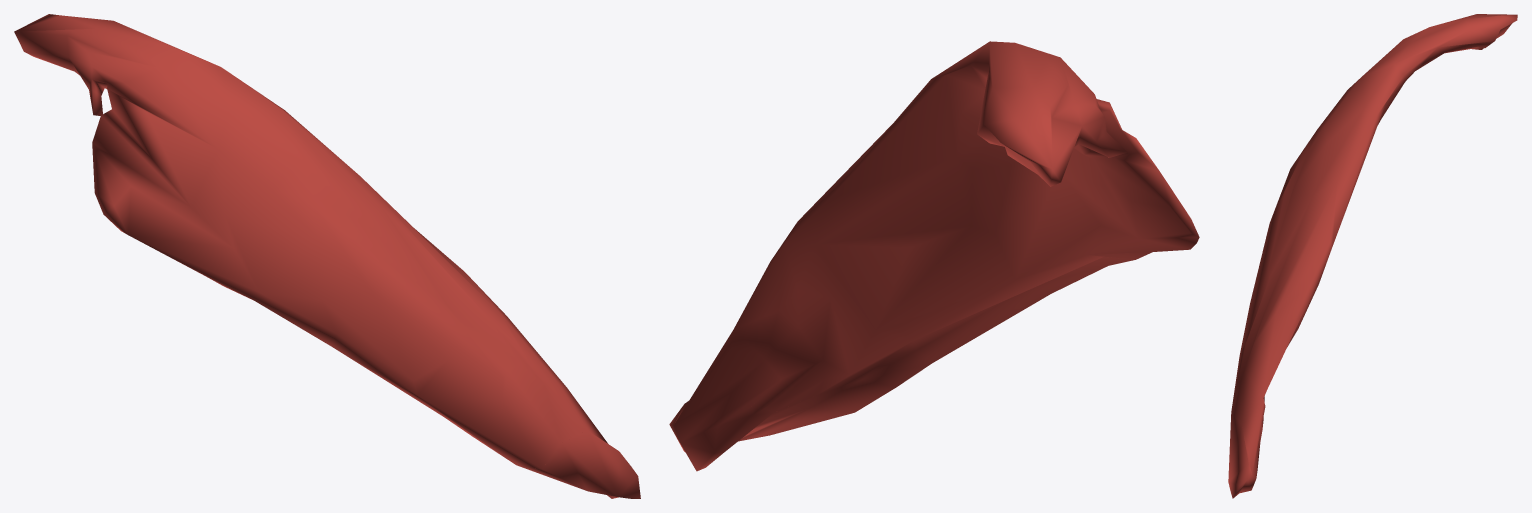
The model's file is musculos-abductor-pollicis-brevis-l.glb.
3 renders of one model, left to right at view 1: azimuth 30°, elevation 25°; view 2: azimuth 150°, elevation 25°; view 3: azimuth 270°, elevation 25°, orthographic. The views are drawn at different scales.
Parts seen in each view (by area): view 1: Abductor pollicis brevis.l; view 2: Abductor pollicis brevis.l; view 3: Abductor pollicis brevis.l.
Part boxes in pixels (x1,y1,x2,y2): Abductor pollicis brevis.l: (14, 14, 640, 498); Abductor pollicis brevis.l: (669, 41, 1199, 471); Abductor pollicis brevis.l: (1228, 14, 1517, 498).
Bounding box in the file's own units: 0.0407 × 0.0395 × 0.0306.
